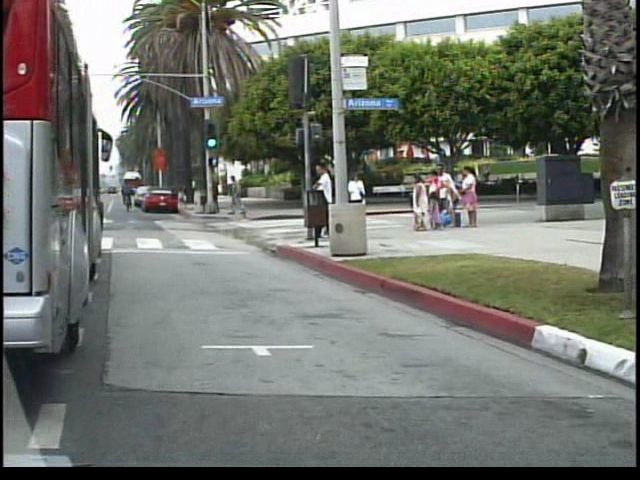person: (314, 158, 340, 241), (349, 167, 372, 231), (229, 170, 250, 217)
